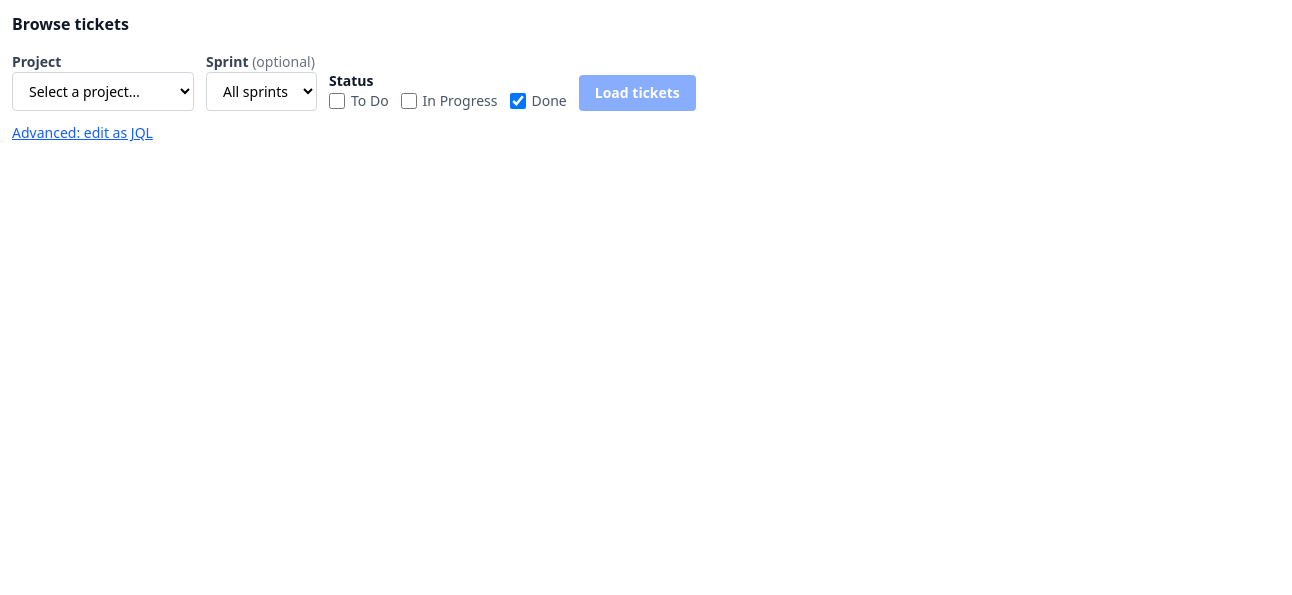
Test: TicketsRoute › expandingARowShowsItsDescriptionAndCommentsAndOnlyOneRowAtATime
The image size is (1292, 595).
Select "CNV — Convergence" in the dropdown labelled "Project". click: [103, 92]
box: [12, 72, 194, 111]
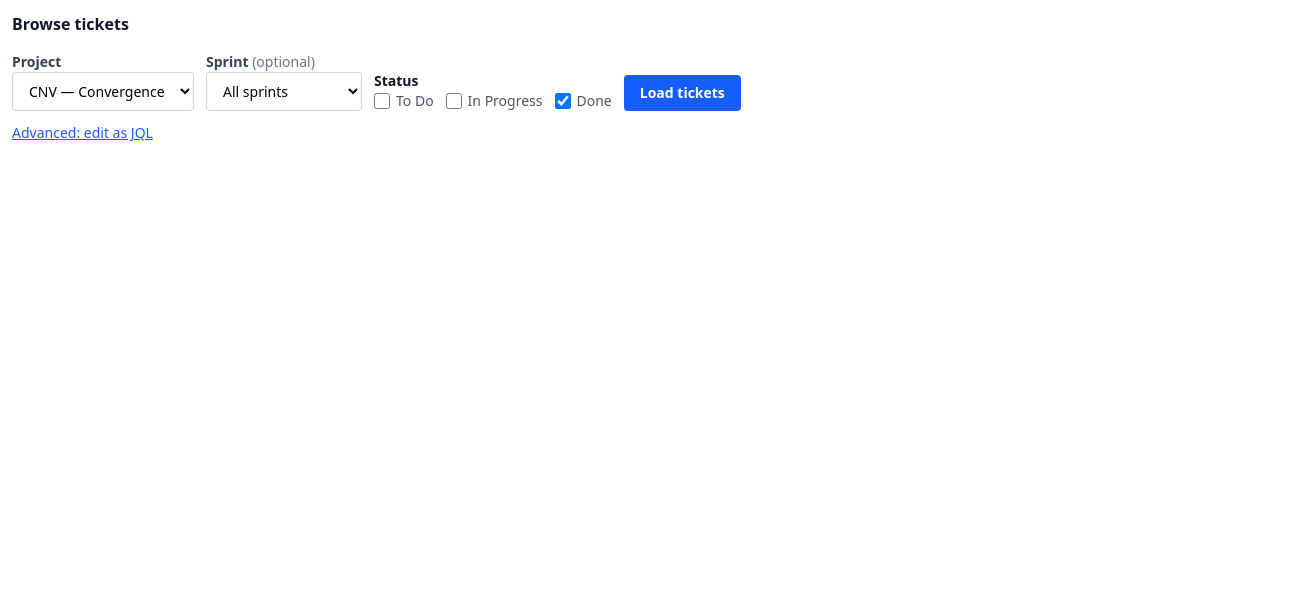
Click the button "Load tickets". click: [682, 93]
box: [624, 75, 741, 111]
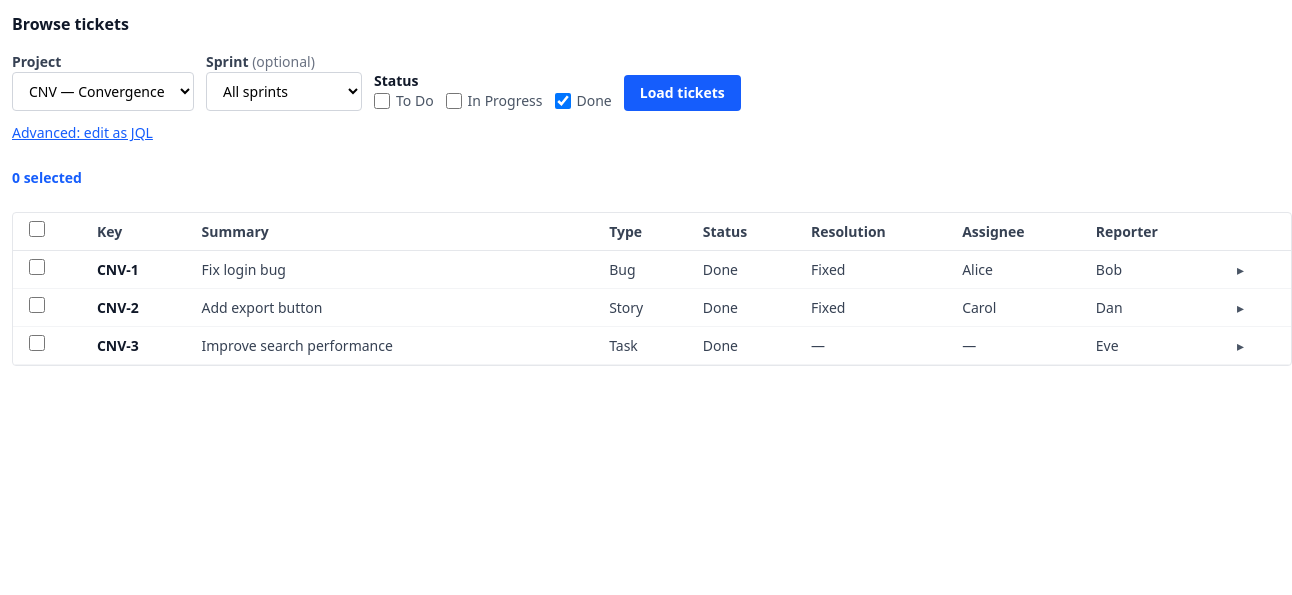
Click the button "▸" in the row of "CNV-1". click: [1240, 270]
box: [1229, 260, 1252, 280]
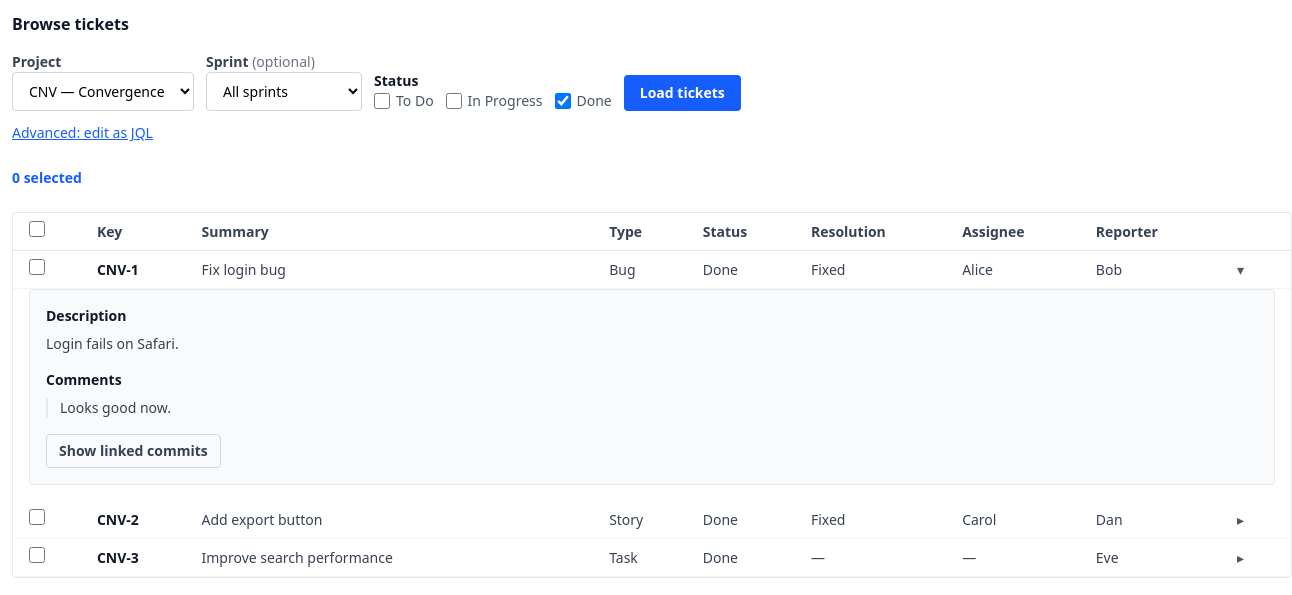
Now the text "Login fails on Safari." is shown, box [46, 334, 179, 353]
Click the button "▸" in the row of "CNV-2". click: [1240, 520]
box: [1229, 510, 1252, 530]
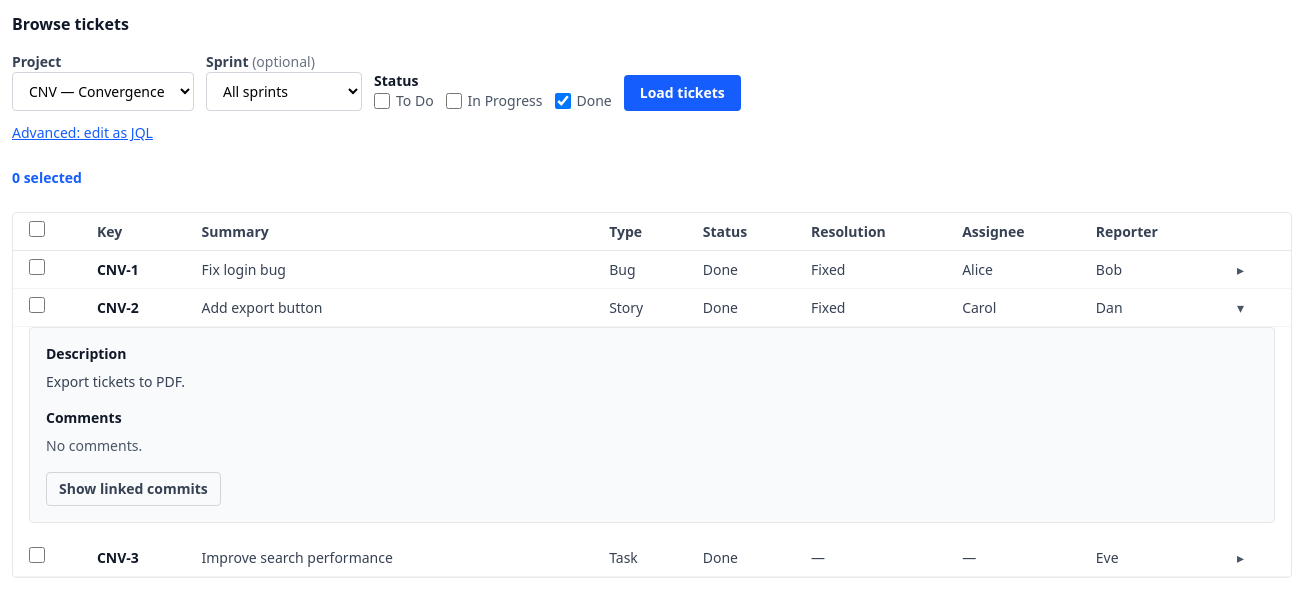
Now the text "Login fails on Safari." is gone
Now the text "Export tickets to PDF." is shown, box [46, 372, 185, 391]
